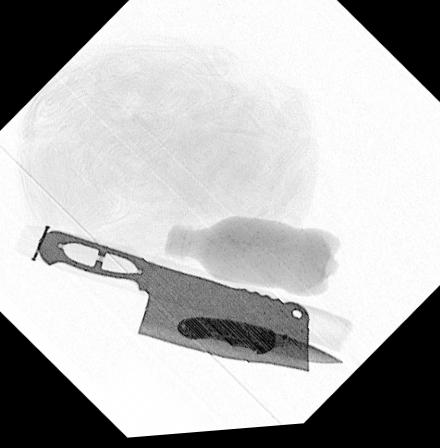Knife: (35, 229, 309, 377), (176, 317, 342, 368)
